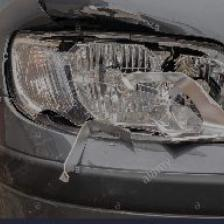head_lamp: (0, 13, 224, 150)
